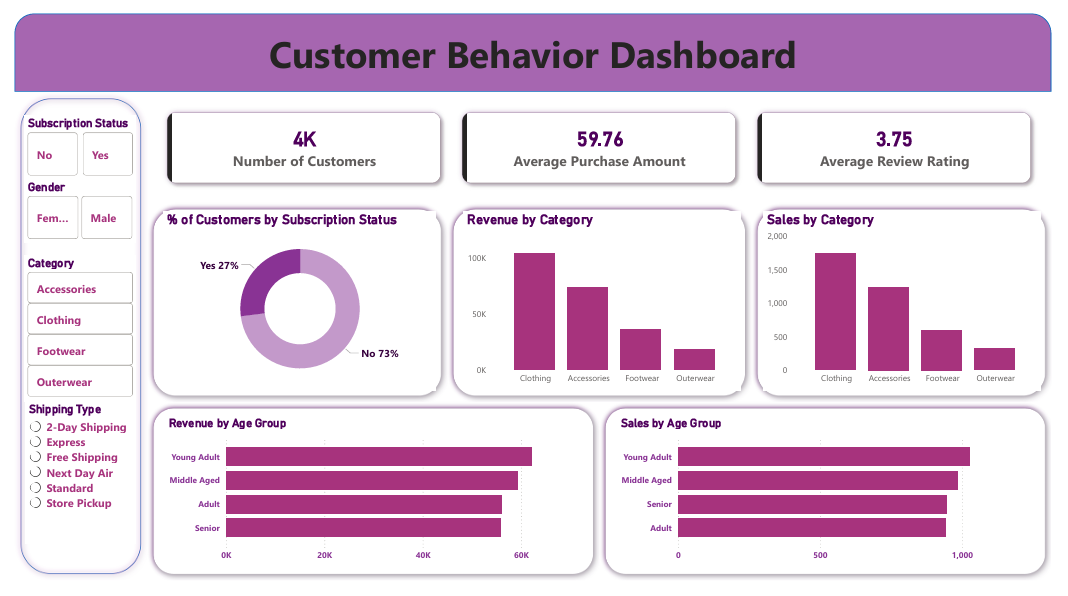

This screenshot's page, from the dashboard's own definition file:
{"tool":"powerbi","page":{"name":"Page 1","canvas":[1500,820],"ordinal":0},"visuals":[{"type":"cardVisual","fields":{"Data":["public customer.Number of Customers","public customer.Average Purchase Amount","public customer.Average Review Rating"]},"box":[192,114,1308,160],"z":0},{"type":"shape","box":[0,0,1500,113.3],"z":1000},{"type":"textbox","box":[0,16,1500,82],"z":2000},{"type":"shape","box":[192,274,434,288],"z":3000},{"type":"donutChart","title":"% of Customers by Subscription Status","fields":{"Category":["public customer.subscription_status"],"Y":["CountNonNull(public customer.customer_id)"]},"box":[216,286,394,260],"z":4000},{"type":"shape","box":[1066,274,434,288],"z":5000},{"type":"shape","box":[626,274,440,288],"z":6000},{"type":"clusteredColumnChart","title":"Revenue by Category","fields":{"Category":["public customer.category"],"Y":["Sum(public customer.purchase_amount)"]},"box":[650,286,402,260],"z":7000},{"type":"clusteredColumnChart","title":"Sales by Category","fields":{"Category":["public customer.category"],"Y":["CountNonNull(public customer.customer_id)"]},"box":[1084,286,402,260],"z":8000},{"type":"shape","box":[0,114,192,706],"z":9000},{"type":"advancedSlicerVisual","fields":{"Values":["public customer.subscription_status"]},"box":[14,148,162,92],"z":10000},{"type":"advancedSlicerVisual","fields":{"Values":["public customer.gender"]},"box":[14,240,162,92],"z":11000},{"type":"advancedSlicerVisual","fields":{"Values":["public customer.category"]},"box":[14,350,162,212],"z":12000},{"type":"listSlicer","fields":{"Values":["public customer.shipping_type"]},"box":[16,562,160,206],"z":13000},{"type":"clusteredBarChart","title":"Revenue by Age Group","fields":{"Y":["Sum(public customer.purchase_amount)"],"Category":["public customer.age_group"]},"box":[216,582,602,220],"z":14000},{"type":"shape","box":[192,562,654,258],"z":15000},{"type":"shape","box":[846,562,654,258],"z":16000},{"type":"clusteredBarChart","title":"Revenue by Age Group","fields":{"Y":["Sum(public customer.purchase_amount)"],"Category":["public customer.age_group"]},"box":[218,582,602,220],"z":16001},{"type":"clusteredBarChart","title":"Sales by Age Group","fields":{"Y":["CountNonNull(public customer.customer_id)"],"Category":["public customer.age_group"]},"box":[872,582,602,220],"z":16002}]}

Visuals, with their boxes in screenshot pixels (x1, y1, x2, y2), scaled from the page's 1500x820 canvas onto the 1068x596 screenshot:
cardVisual - public customer.Number of Customers x public customer.Average Purchase Amount: select_region(137, 83, 1067, 199)
shape: select_region(0, 0, 1067, 82)
textbox: select_region(0, 12, 1067, 71)
shape: select_region(137, 199, 446, 408)
"% of Customers by Subscription Status" donutChart: select_region(154, 208, 434, 397)
shape: select_region(759, 199, 1067, 408)
shape: select_region(446, 199, 759, 408)
"Revenue by Category" clusteredColumnChart: select_region(463, 208, 749, 397)
"Sales by Category" clusteredColumnChart: select_region(772, 208, 1058, 397)
shape: select_region(0, 83, 137, 595)
advancedSlicerVisual - public customer.subscription_status: select_region(10, 108, 125, 174)
advancedSlicerVisual - public customer.gender: select_region(10, 174, 125, 241)
advancedSlicerVisual - public customer.category: select_region(10, 254, 125, 408)
listSlicer - public customer.shipping_type: select_region(11, 408, 125, 558)
"Revenue by Age Group" clusteredBarChart: select_region(154, 423, 582, 583)
shape: select_region(137, 408, 602, 595)
shape: select_region(602, 408, 1067, 595)
"Revenue by Age Group" clusteredBarChart: select_region(155, 423, 584, 583)
"Sales by Age Group" clusteredBarChart: select_region(621, 423, 1049, 583)
